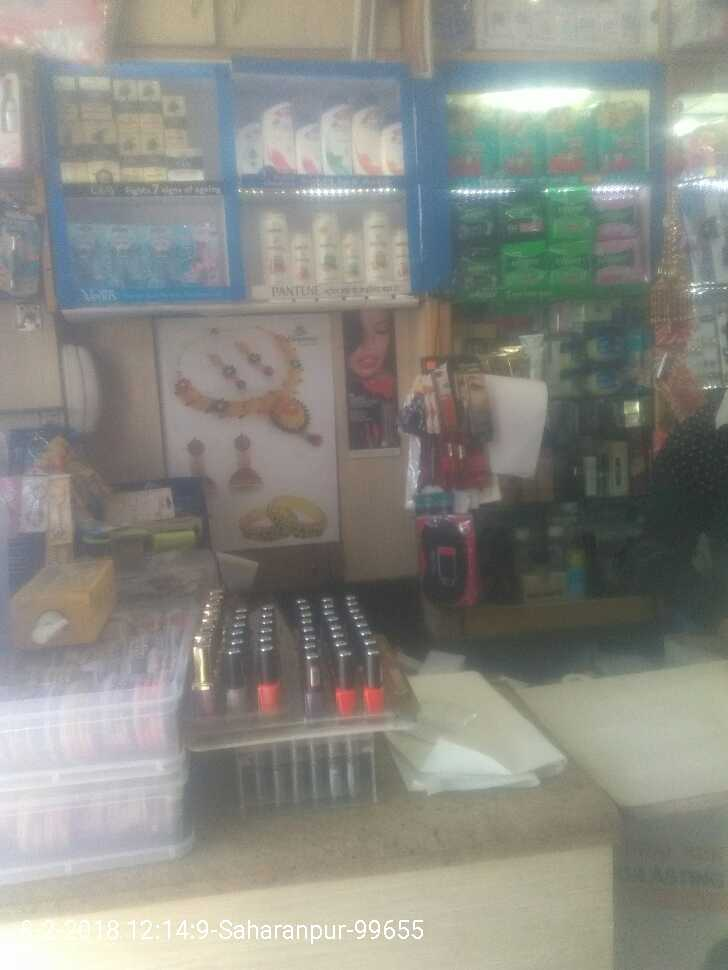venus: (66, 221, 106, 285), (106, 226, 147, 285), (147, 226, 183, 282), (191, 226, 222, 287)
